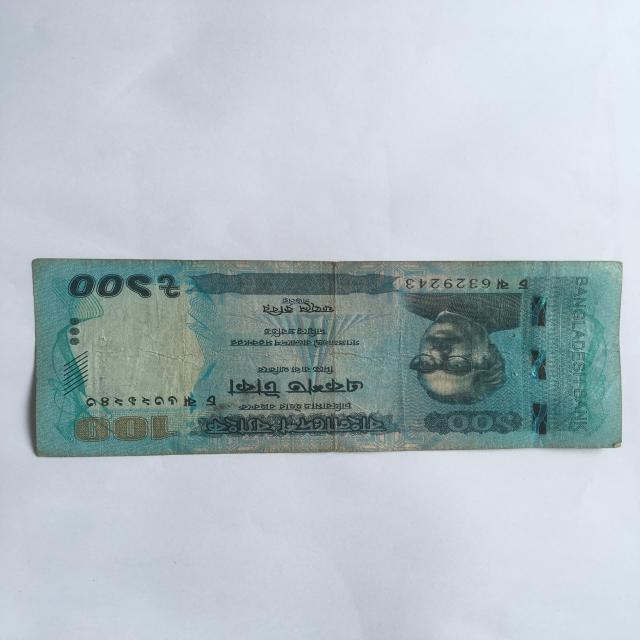Taka: (23, 250, 621, 458)
